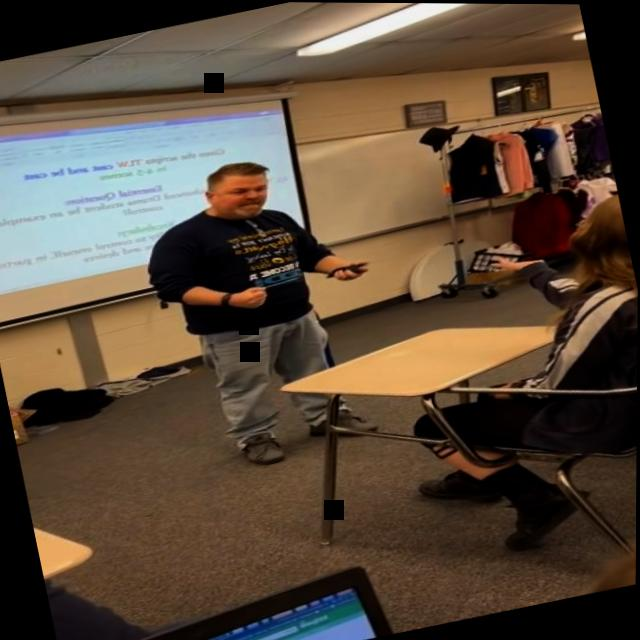NO-Mask: (203, 161, 274, 226)
